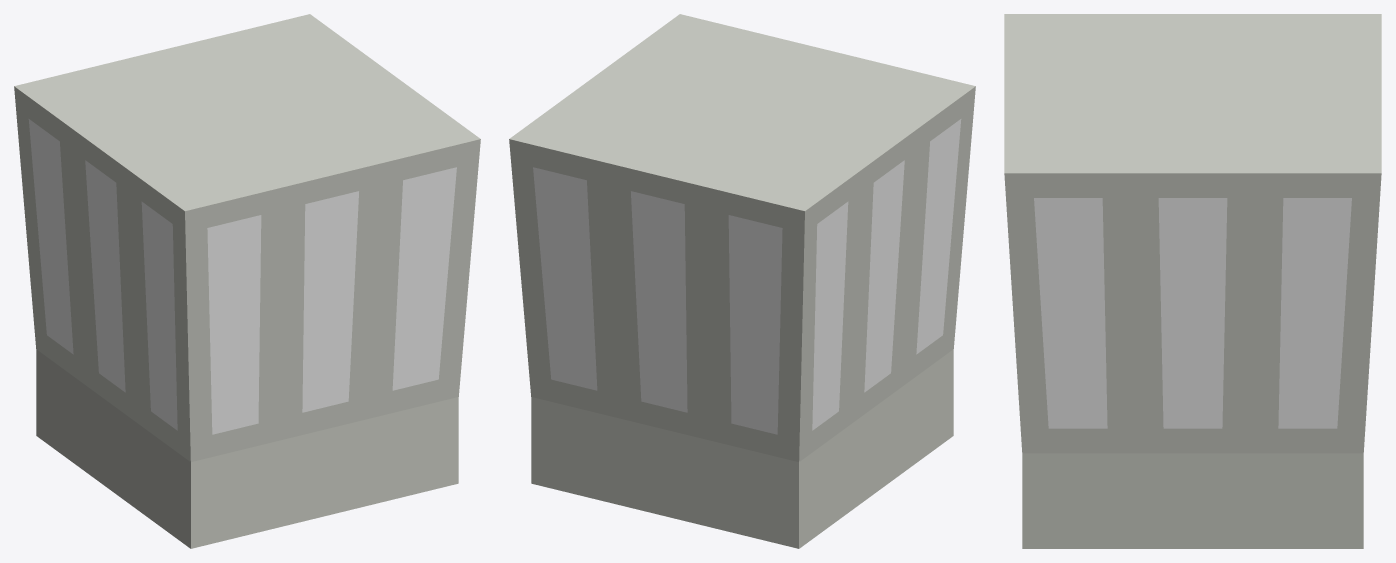
The model's file is Chef'sHat.fbx.
The picture shows the model from 3 angles, left to right: view 1: azimuth 30°, elevation 25°; view 2: azimuth 150°, elevation 25°; view 3: azimuth 270°, elevation 25°; orthographic projection. The views are drawn at different scales.
Visible parts, largest first — view 1: Cube; view 2: Cube; view 3: Cube.
Part boxes in pixels (bbox=[...]): Cube: bbox=[14, 14, 480, 548]; Cube: bbox=[509, 14, 975, 548]; Cube: bbox=[1004, 14, 1381, 548].
Size of the model in its own units: 221 by 248 by 221.
